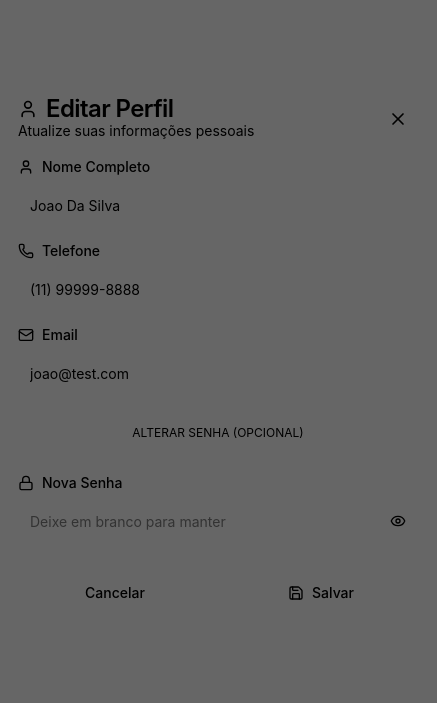
Test: ProfileEditModal › should show confirm password field when new password is entered
The image size is (437, 703).
Type "NewPass123" into the password field with placeholder "Deixe em branco para manter" at (218, 521), box 18,501 -> 418,541
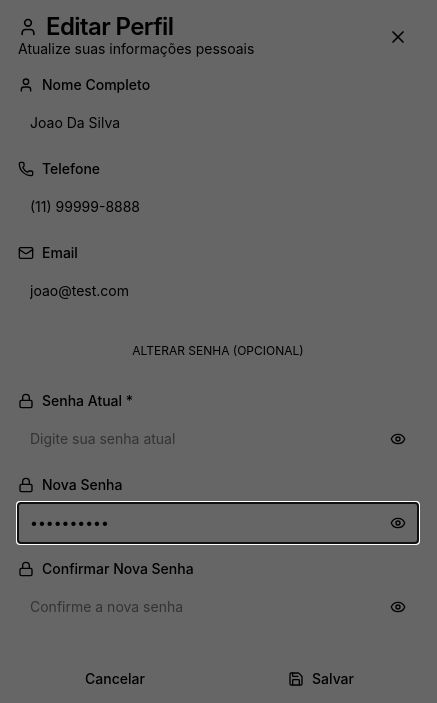
Expected: the password field with placeholder "Confirme a nova senha" is shown, 18,586 -> 418,626
Expected: the password field with placeholder "Digite sua senha atual" is shown, 18,418 -> 418,458
